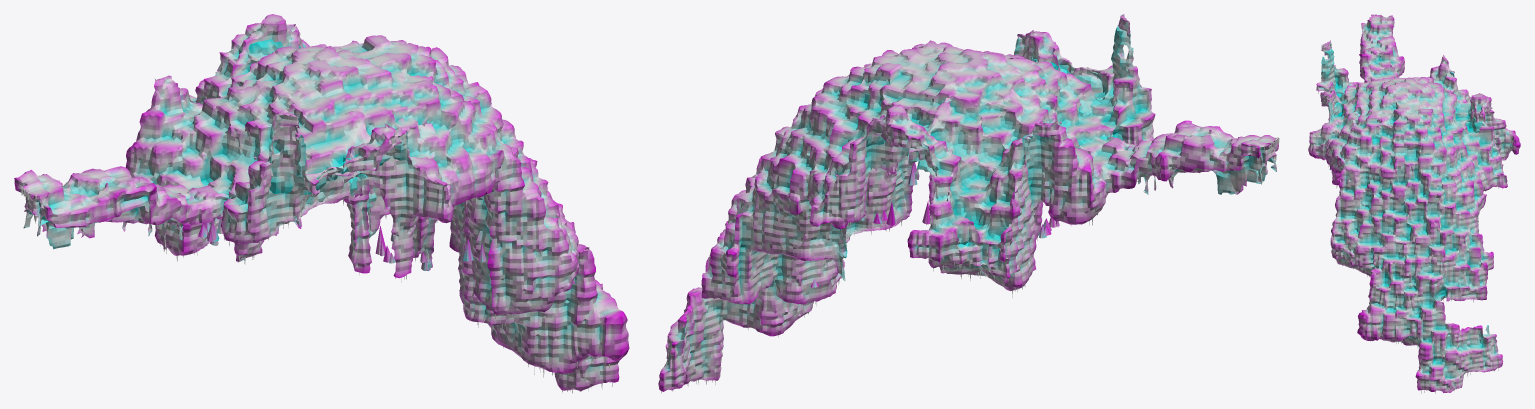
The model's file is Macico_Vilas_Caverna.fbx.
The picture shows the model from 3 angles, left to right: view 1: azimuth 30°, elevation 25°; view 2: azimuth 150°, elevation 25°; view 3: azimuth 270°, elevation 25°; orthographic projection. The views are drawn at different scales.
Visible parts, largest first — view 1: Macico_Vilas_Caverna, Macico_Vilas_Caverna_Gelo; view 2: Macico_Vilas_Caverna; view 3: Macico_Vilas_Caverna.
Part boxes in pixels (x1,y1,x2,y2): Macico_Vilas_Caverna: [14, 14, 629, 391]; Macico_Vilas_Caverna_Gelo: [21, 72, 617, 393]; Macico_Vilas_Caverna: [658, 14, 1278, 391]; Macico_Vilas_Caverna: [1308, 14, 1520, 392].
Bounding box in the file's own units: 298 × 197 × 155.
